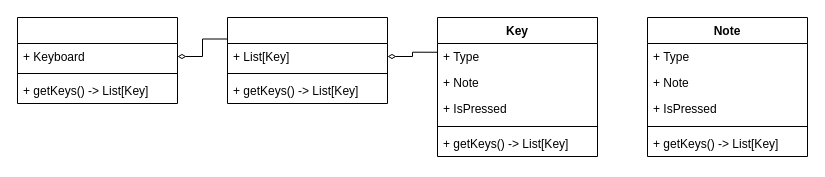
Some shapes in this 825 by 177 pixel diagram are drawn without their labels. The shapes that lost their labels are listed below. From the top down, each one's box as (x1, y1, x2, y2) in pixels, then its label:
(16, 16, 178, 104): Keyboard Window
(226, 16, 388, 104): Keyboard
